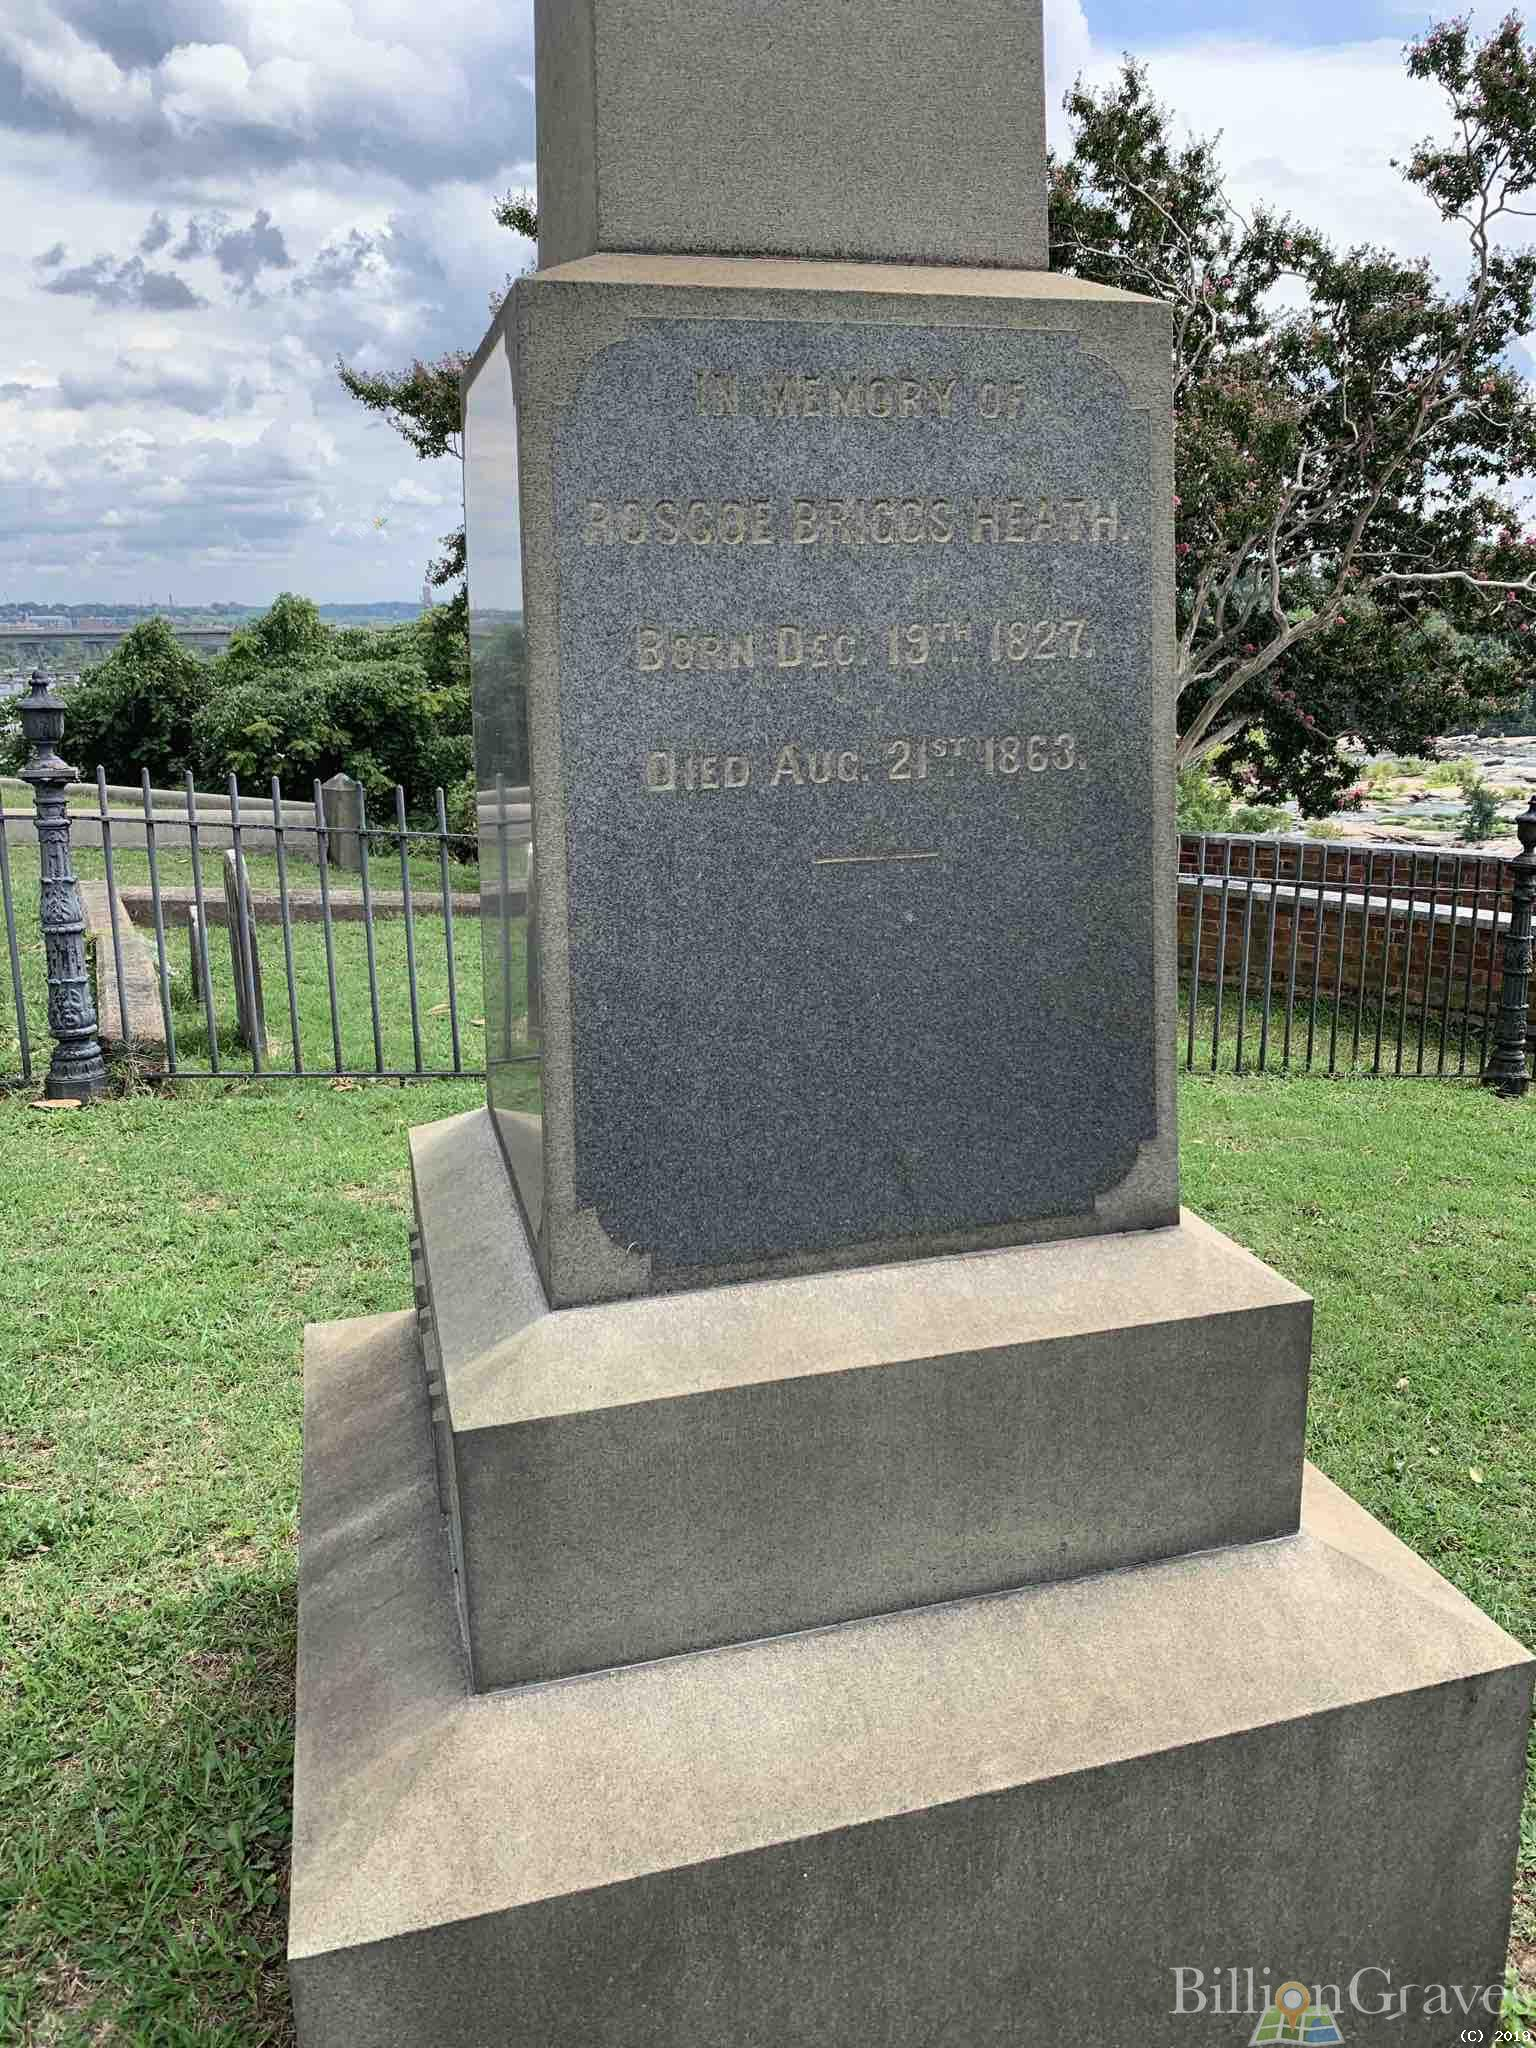obelisk: (436, 0, 1191, 1297)
